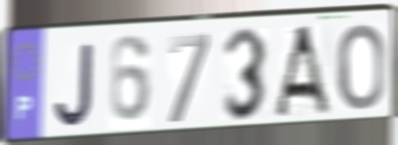3: (222, 25, 270, 124)
6: (109, 31, 154, 133)
7: (167, 33, 211, 126)
A: (271, 23, 333, 118)
J: (52, 40, 96, 129)
O: (335, 21, 386, 114)
